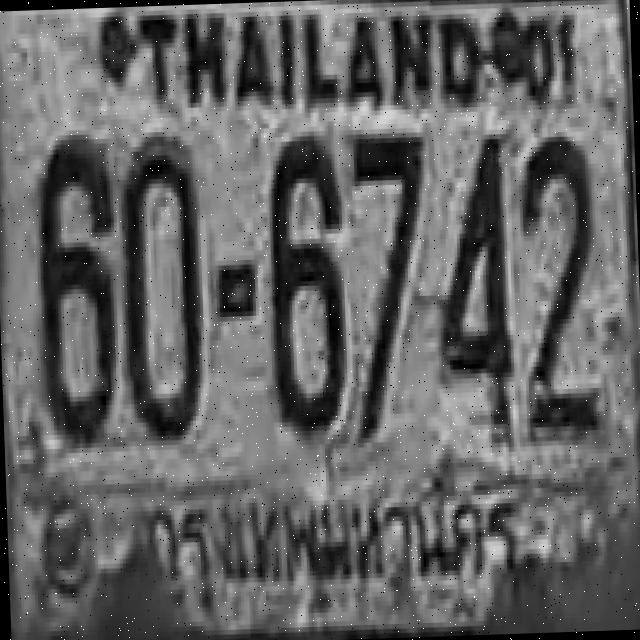0: (116, 133, 204, 439)
2: (517, 133, 600, 434)
4: (429, 131, 515, 437)
6: (31, 133, 120, 444), (264, 135, 349, 436)
7: (348, 130, 432, 440)
Bangkok: (142, 467, 530, 616)
